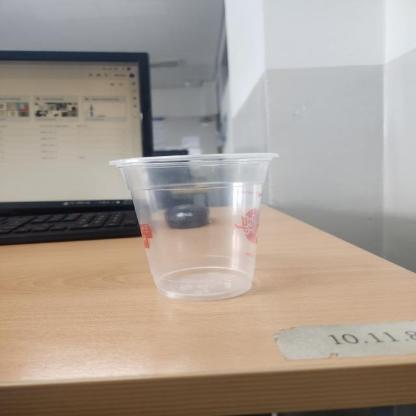Plastic Cup: (108, 152, 282, 301)
